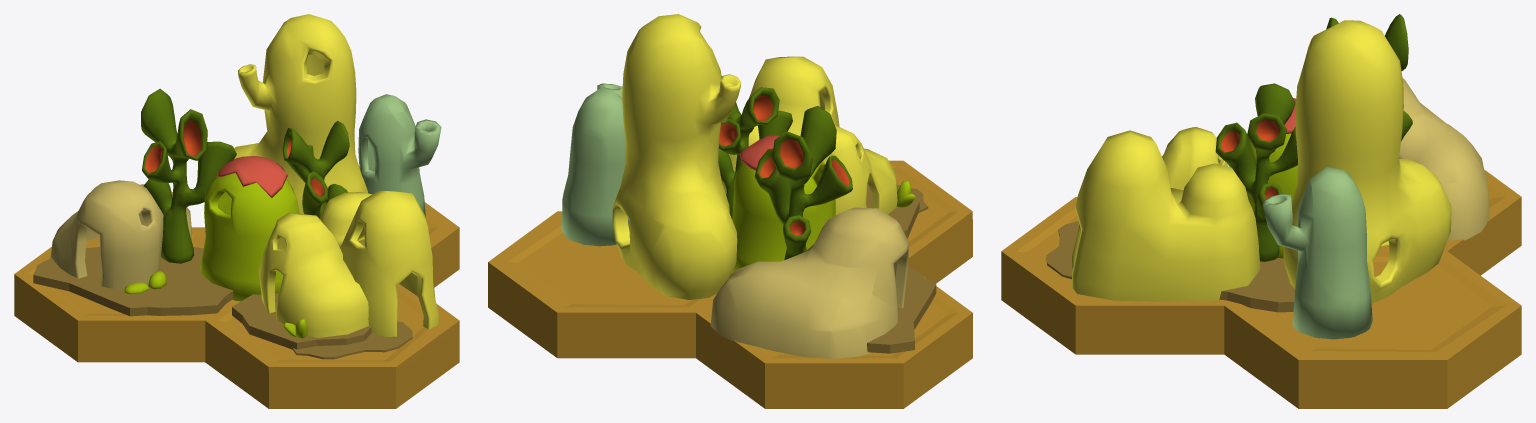
File: Town_01.fbx
The picture shows the model from 3 angles, left to right: view 1: azimuth 30°, elevation 25°; view 2: azimuth 150°, elevation 25°; view 3: azimuth 270°, elevation 25°; orthographic projection. The views are drawn at different scales.
Visible parts, largest first — view 1: Cylinder.006; view 2: Cylinder.006; view 3: Cylinder.006.
Boxes of the visible parts, box(x1,y1,x2,y2) form: Cylinder.006: box(14, 14, 459, 408); Cylinder.006: box(488, 14, 972, 408); Cylinder.006: box(1001, 14, 1521, 408).
Bounding box in the file's own units: 346 × 231 × 350.
1 material, 1 textured.
